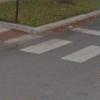Crosswalk: (7, 24, 100, 77)
